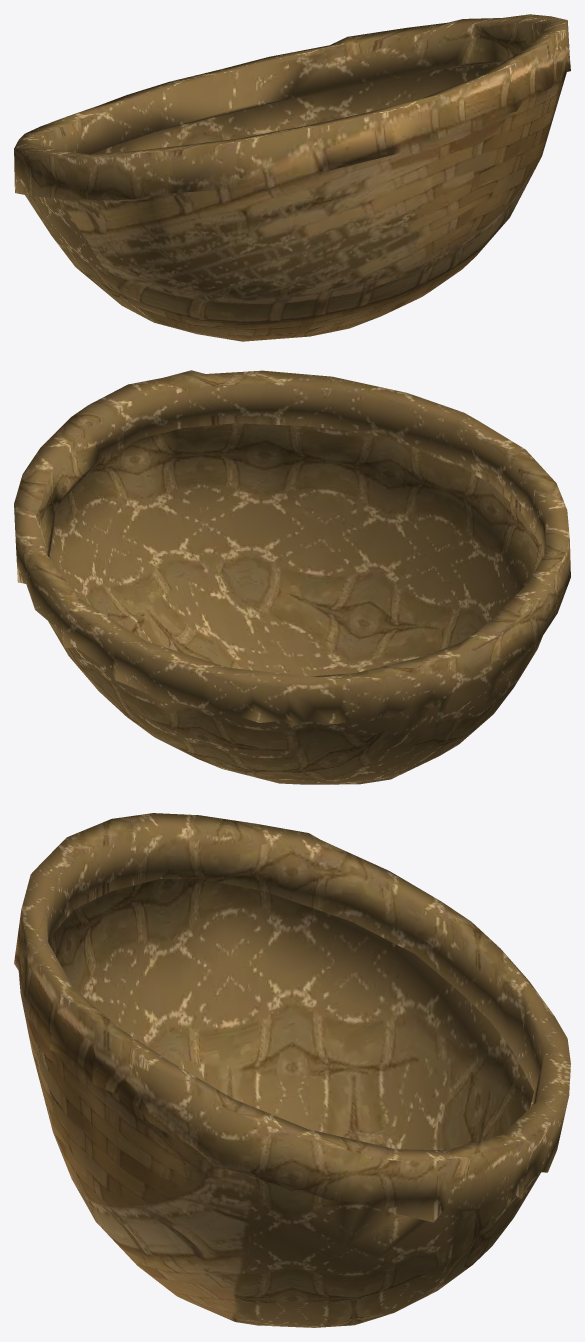
File: toad-prop-basket.glb
3 renders of one model, top to bottom at view 1: azimuth 30°, elevation 25°; view 2: azimuth 150°, elevation 25°; view 3: azimuth 270°, elevation 25°, orthographic. The views are drawn at different scales.
Visible parts, largest first — view 1: world; view 2: world; view 3: world.
Part boxes in pixels (bbox=[...]): world: bbox=[14, 14, 570, 341]; world: bbox=[14, 370, 570, 784]; world: bbox=[14, 813, 570, 1327].
Bounding box in the file's own units: 0.11 × 0.06 × 0.08.
1 material, 1 textured.
